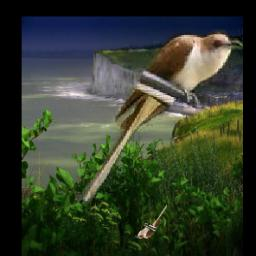Cuckoo: (80, 29, 243, 204), (136, 204, 168, 239)
